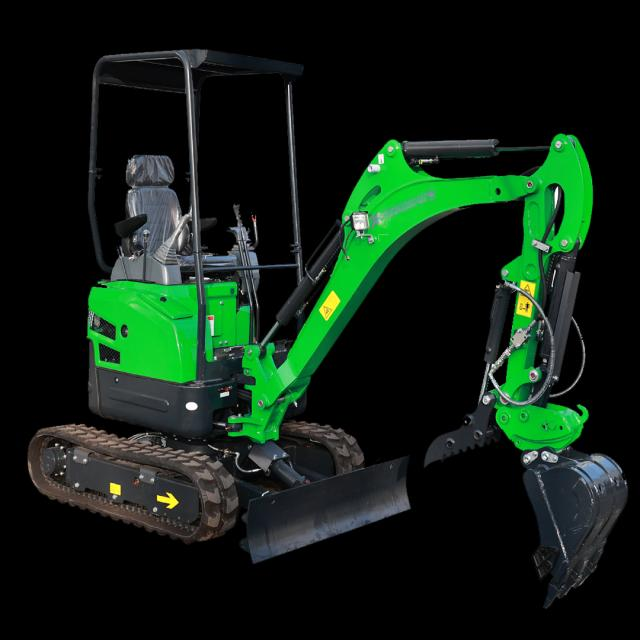excavator: (26, 47, 628, 609)
